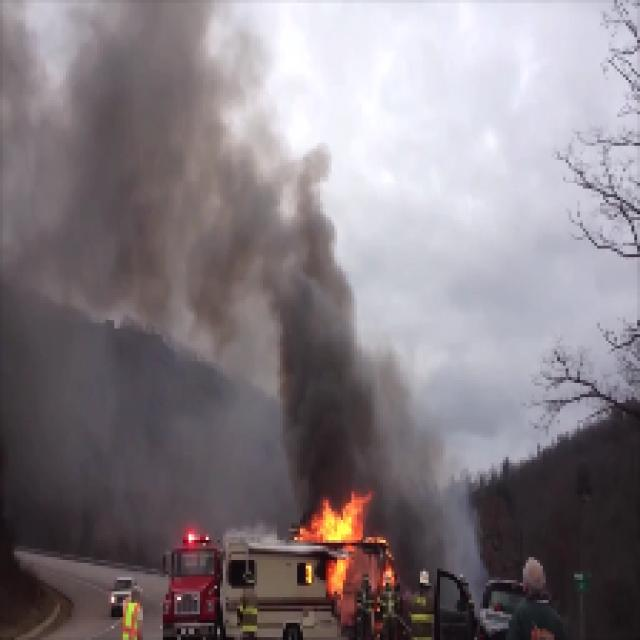smoke: (6, 3, 223, 347), (274, 171, 376, 485)
